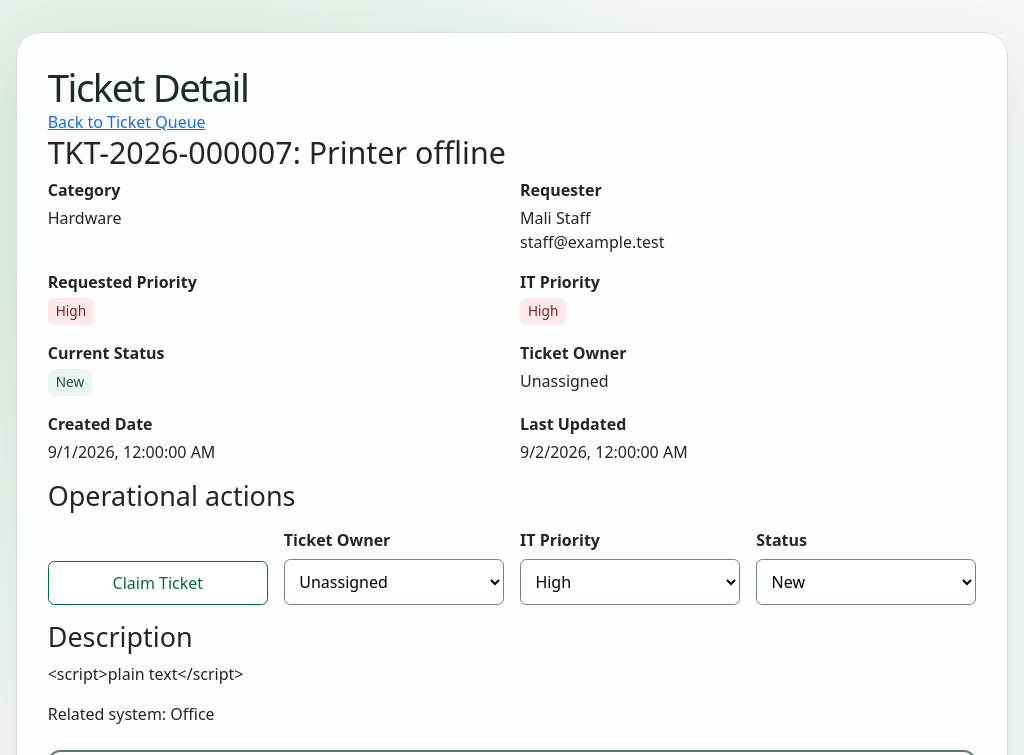
it: disables operations while saving and retains unchanged values on conflict
This screenshot has width=1024, height=755.
Expected: the text "<script>plain text</script>" is shown, [48,663,244,685]
Click the button "Claim Ticket".
click(158, 583)  # box [48,561,268,605]
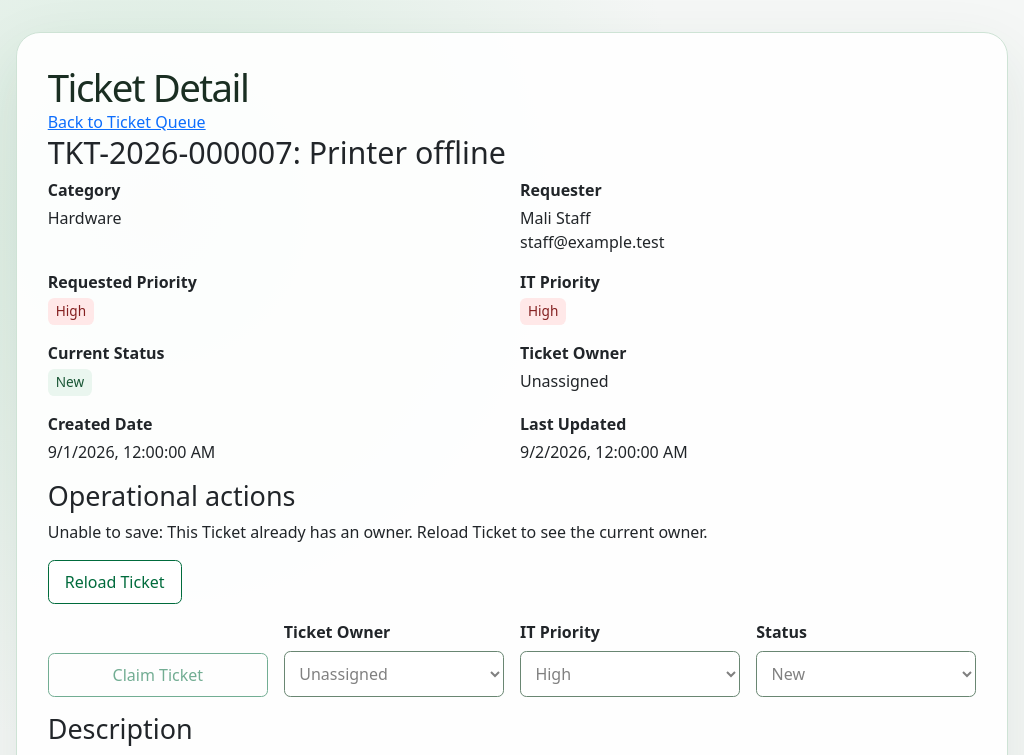
Expected: the dropdown labelled "Ticket Owner" shows "Unassigned", [284,650,504,697]
Expected: the dropdown labelled "IT Priority" is disabled, [520,650,740,697]
Expected: the message shows "Unable to save", [48,521,167,543]
